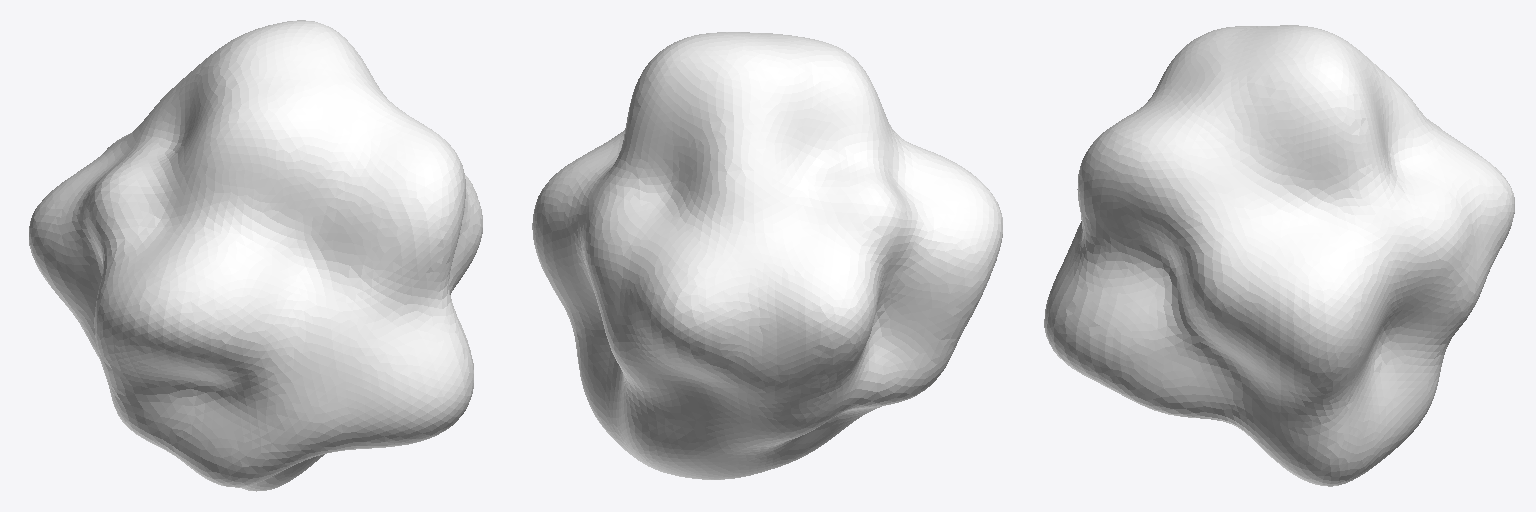
The robot description file, URDF, robot "BigGlaven8":
<robot name="BigGlaven8">
	<link name="_name">
		<visual>
			<origin rpy="0 0 0" xyz="-0.0004819069693447742 0.0004576875899764953 -0.00011799588101751842" />
			<geometry>
				<mesh filename="BigGlaven8.obj" scale="0.001 0.001 0.001" />
			</geometry>
			<material name="texture">
				<color rgba="1.0 1.0 1.0 1.0" />
			</material>
		</visual>
		<collision>
			<geometry>
				<mesh filename="BigGlaven8_vhacd.obj" scale="0.001 0.001 0.001" />
			</geometry>
		<origin rpy="0 0 0" xyz="-0.0004819069693447742 0.0004576875899764953 -0.00011799588101751842" /></collision>
		<inertial>
			<mass value="1.0" />
			<inertia ixx="1.0" ixy="0.0" ixz="0.0" iyy="1.0" iyz="0.0" izz="1.0" />
		</inertial>
	</link>
</robot>

--- Render facts (derived) ---
Views: 3 orthographic renders of the robot side by side, from view 1: azimuth 30°, elevation 25°; view 2: azimuth 150°, elevation 25°; view 3: azimuth 270°, elevation 25°.
Robot: BigGlaven8 — 1 links, 0 joints (none); root link _name; default pose: every joint at zero.
Links seen in each view (by area): view 1: _name; view 2: _name; view 3: _name.
Link boxes in pixels (<box>): _name: <box>29,20,482,491</box>; _name: <box>532,32,1002,479</box>; _name: <box>1044,25,1514,486</box>.
Size in the robot's own frame: 0.0453 by 0.0462 by 0.046 metres.
Meshes: 1 distinct files referenced, 1 mesh visuals loaded (1 OBJ).
